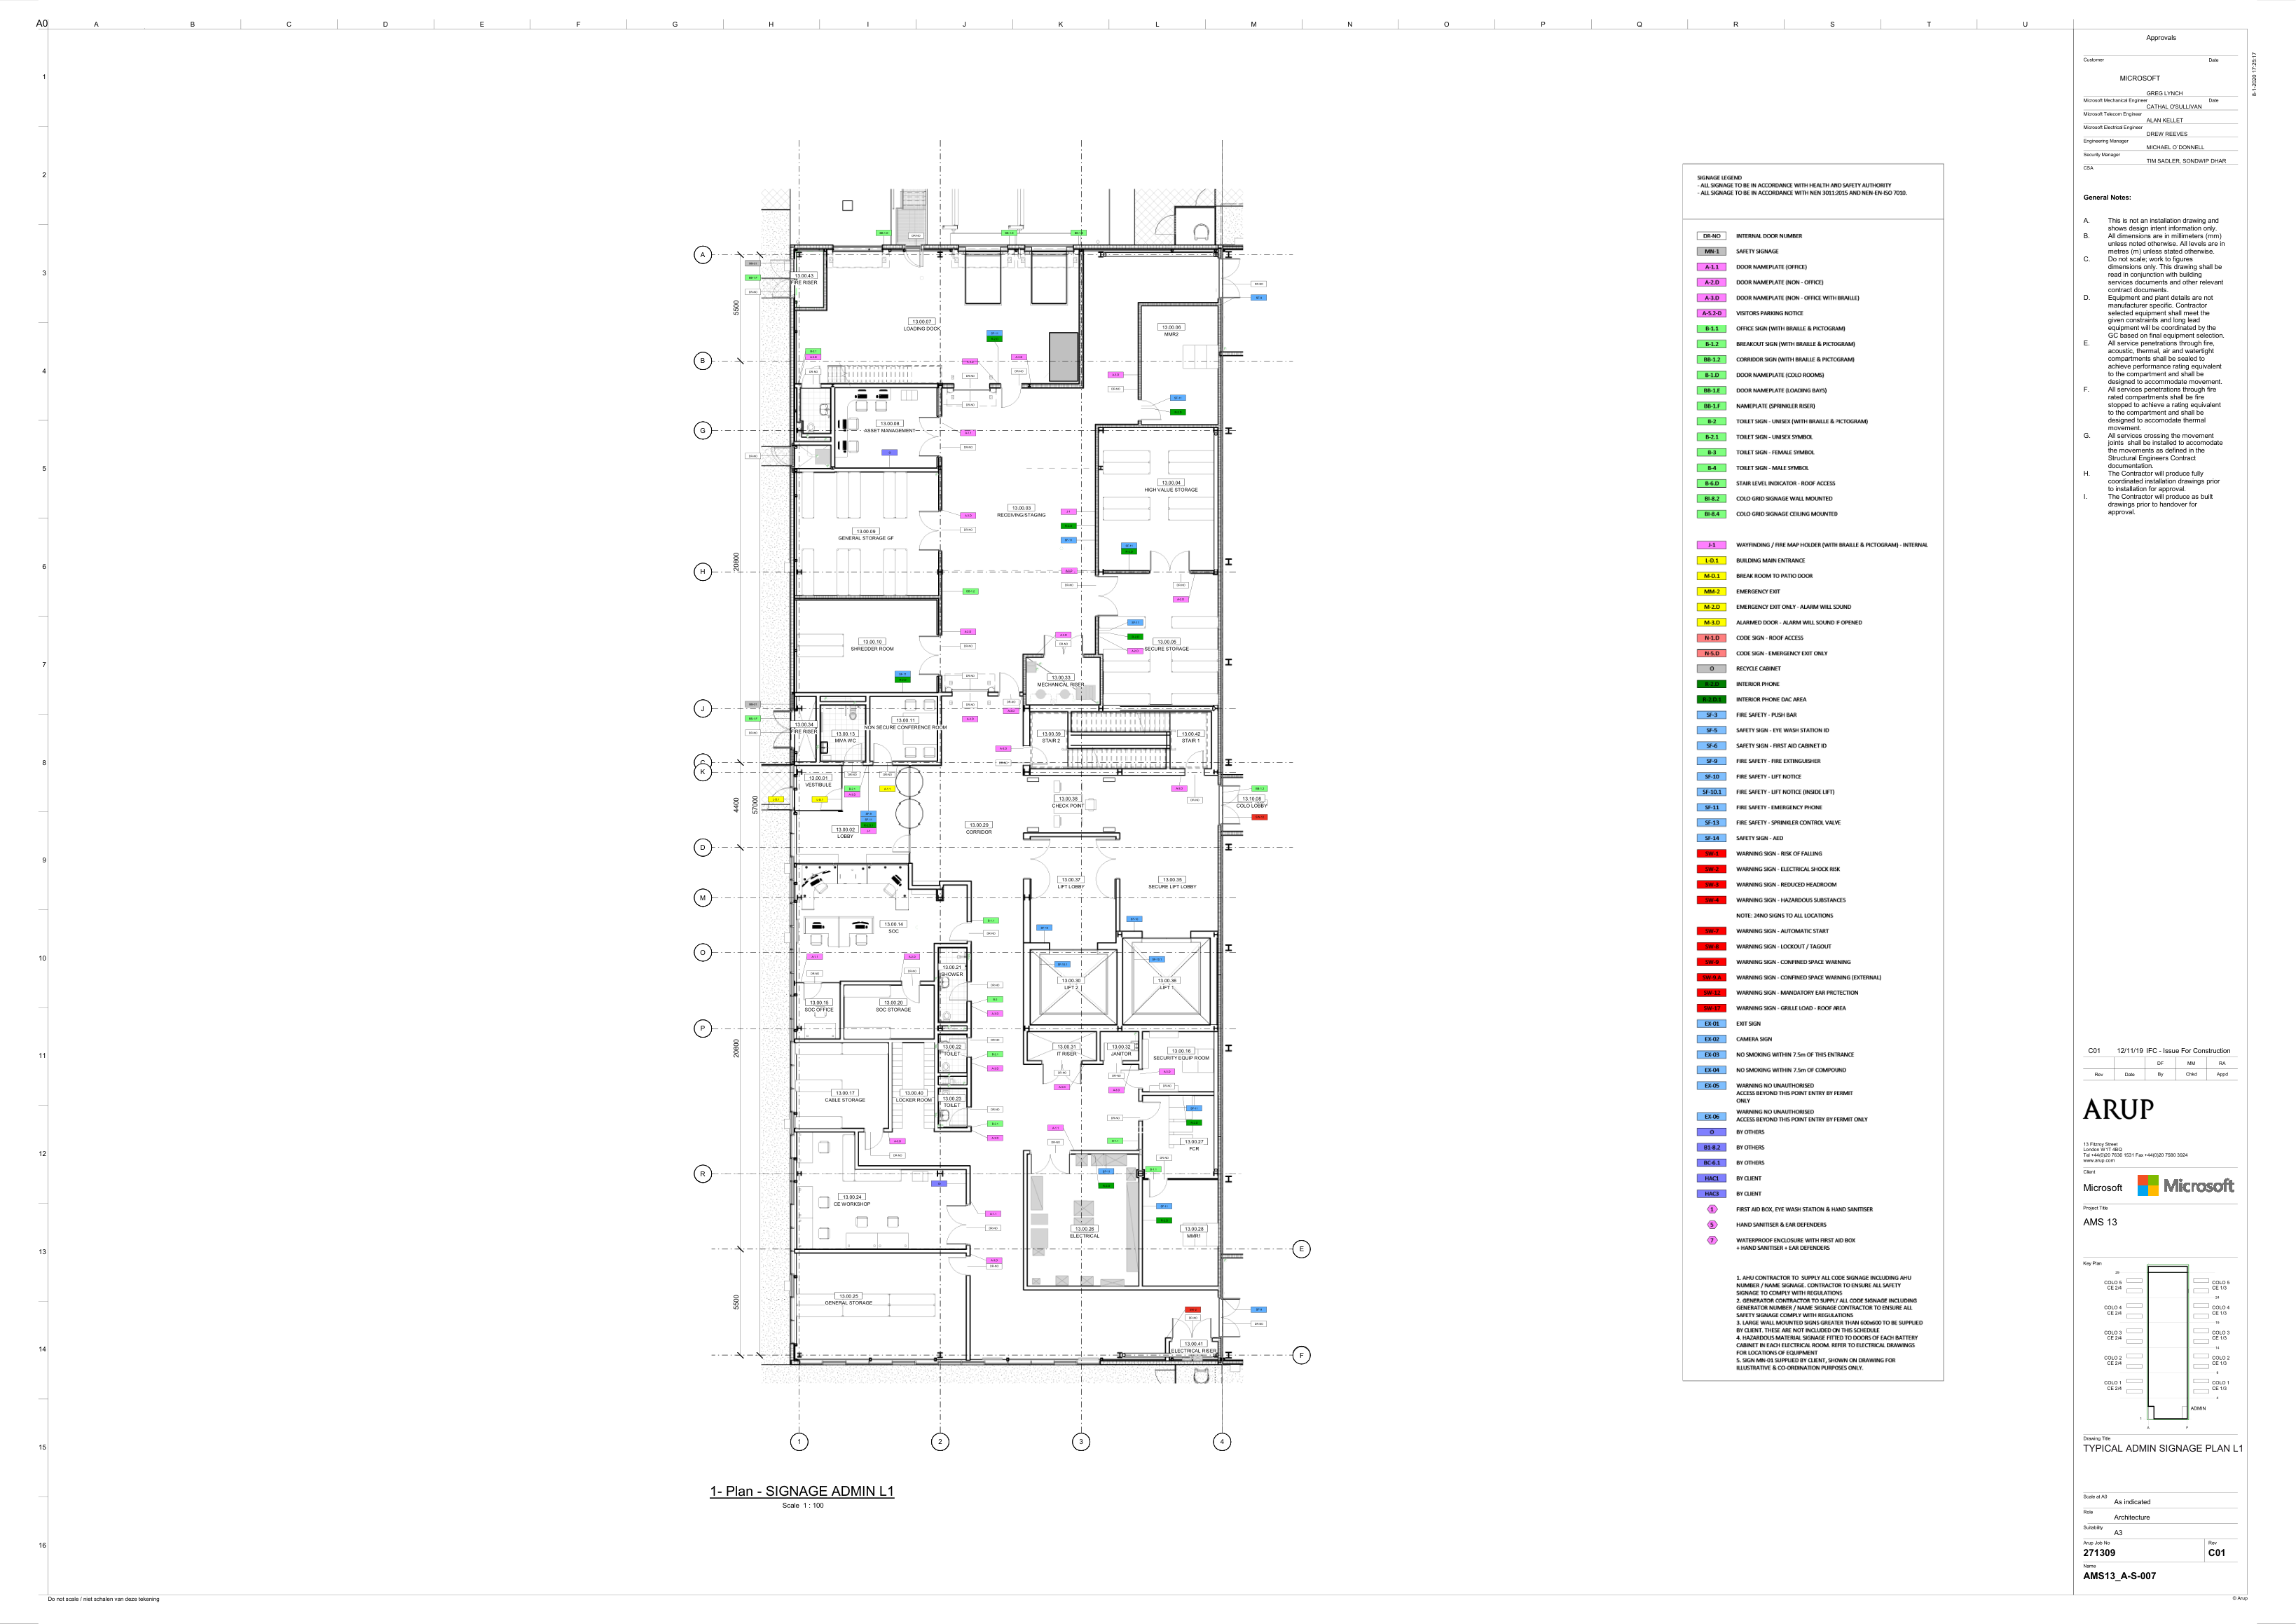Legend: (1682, 163, 1944, 1379)
